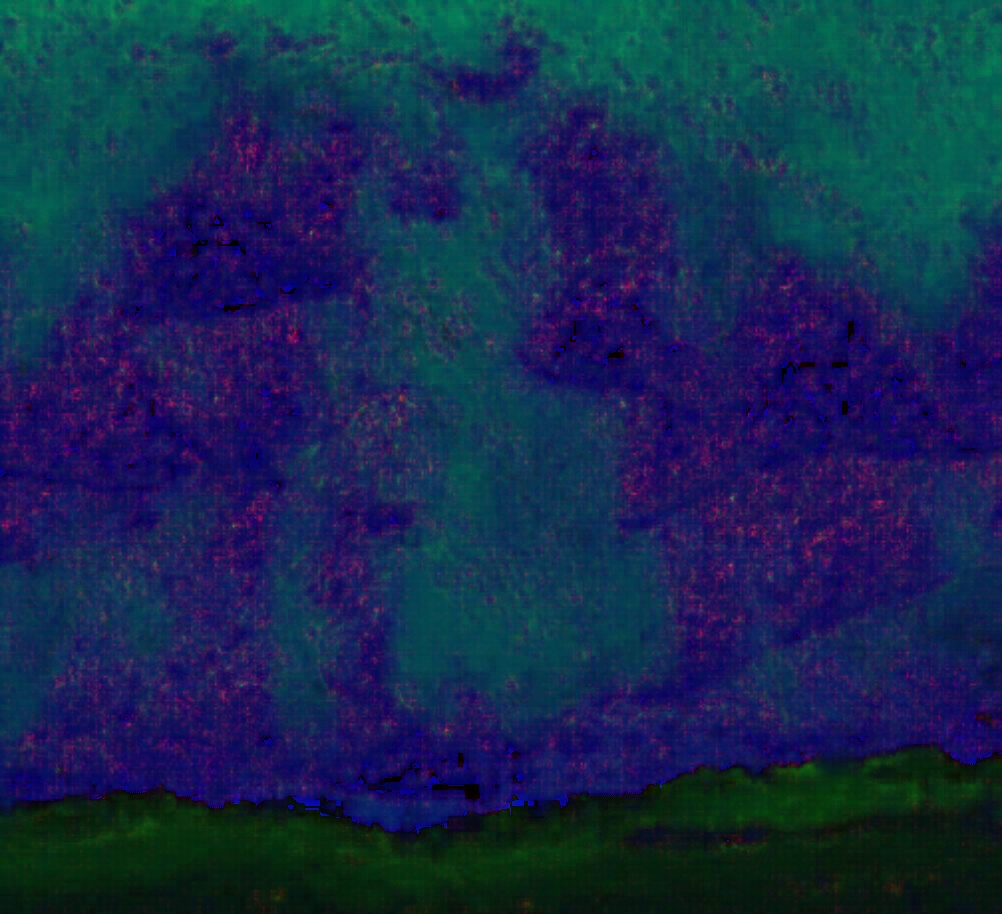rip_current: (272, 149, 709, 699)
